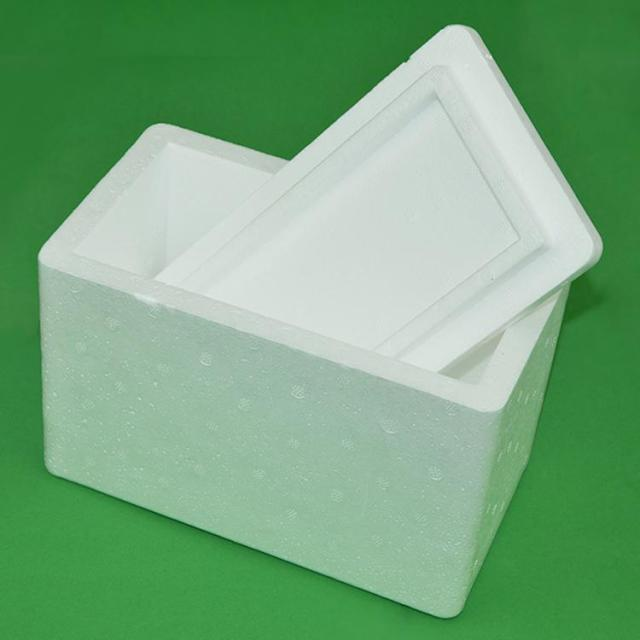styrofoam: (36, 22, 604, 620)
